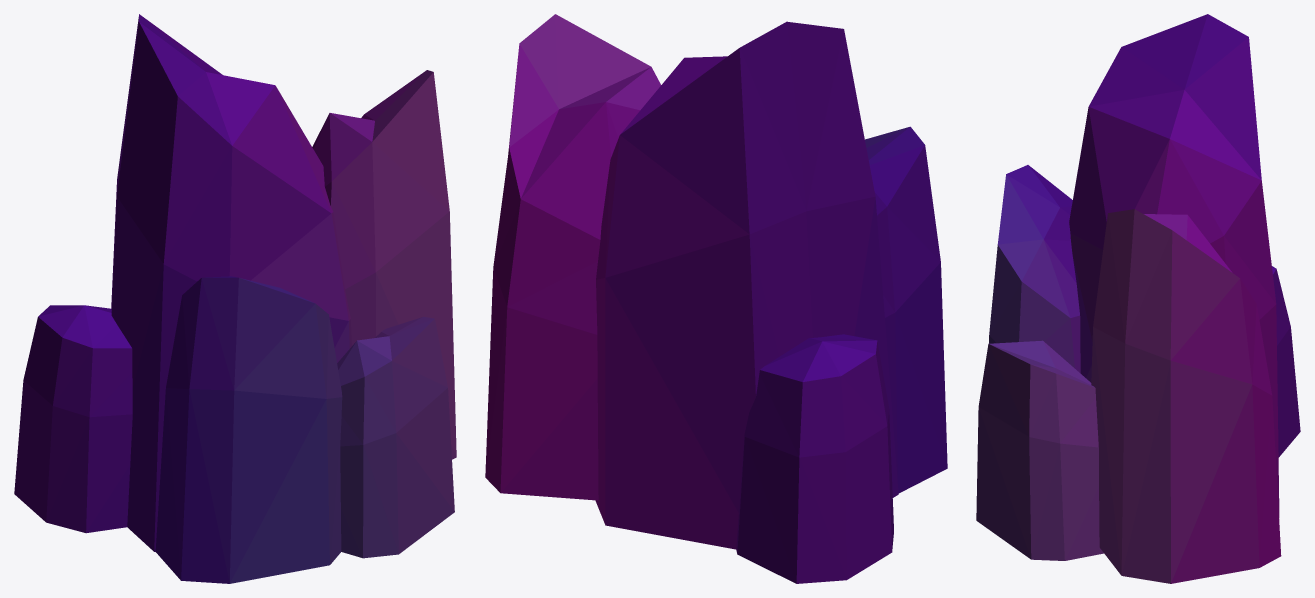
File: SM_CinderCanyon_Rock_A_LOD2.fbx
3 views of the same model, side by side, from view 1: azimuth 30°, elevation 25°; view 2: azimuth 150°, elevation 25°; view 3: azimuth 270°, elevation 25° (orthographic). The views are drawn at different scales.
Visible parts, largest first — view 1: SM_CinderCanyon_Rock_A_LOD2; view 2: SM_CinderCanyon_Rock_A_LOD2; view 3: SM_CinderCanyon_Rock_A_LOD2.
Boxes of the visible parts, <box> form: SM_CinderCanyon_Rock_A_LOD2: <box>14,14,456,583</box>; SM_CinderCanyon_Rock_A_LOD2: <box>485,14,947,583</box>; SM_CinderCanyon_Rock_A_LOD2: <box>976,14,1300,583</box>.
Size of the model in its own units: 100 by 78 by 118.
